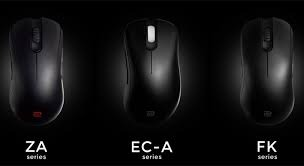mouse: (7, 17, 68, 133), (121, 21, 184, 131), (237, 20, 299, 130)
